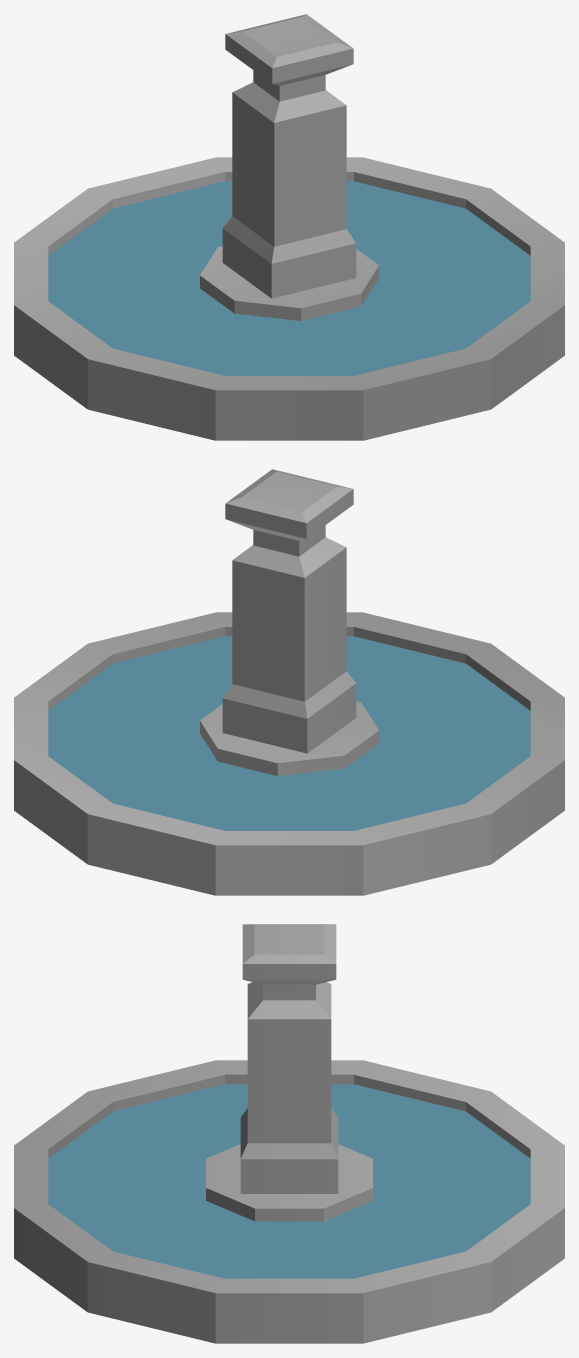
File: Fountain_02.fbx
The picture shows the model from 3 angles, top to bottom: view 1: azimuth 30°, elevation 25°; view 2: azimuth 150°, elevation 25°; view 3: azimuth 270°, elevation 25°; orthographic projection.
Visible parts, largest first — view 1: Fountain_02; view 2: Fountain_02; view 3: Fountain_02.
Boxes of the visible parts, bbox=[...] form: Fountain_02: bbox=[14, 14, 564, 440]; Fountain_02: bbox=[14, 469, 564, 895]; Fountain_02: bbox=[14, 924, 564, 1343].
Bounding box in the file's own units: 420 × 242 × 420.
